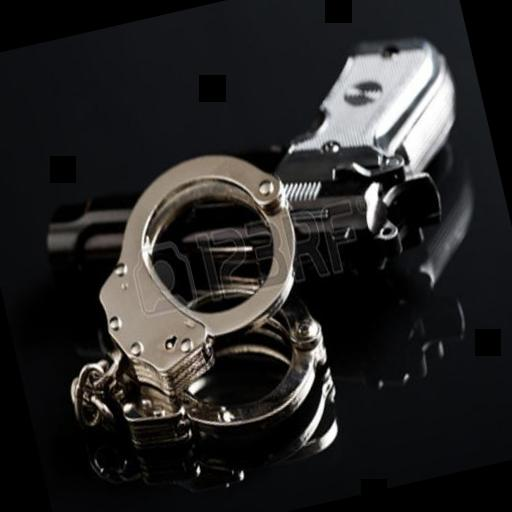Handgun: (16, 28, 486, 336)
